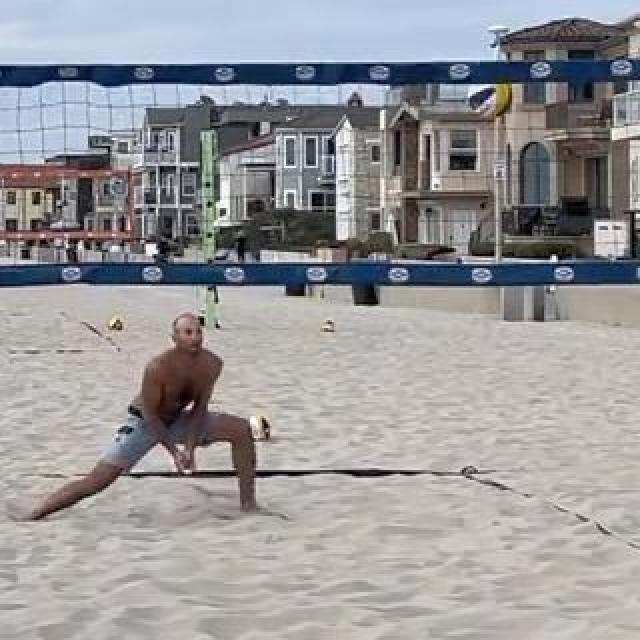volleyball: (469, 85, 513, 119), (239, 414, 271, 444), (319, 320, 335, 334), (109, 317, 123, 331)
